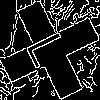L: (25, 25, 78, 70)
